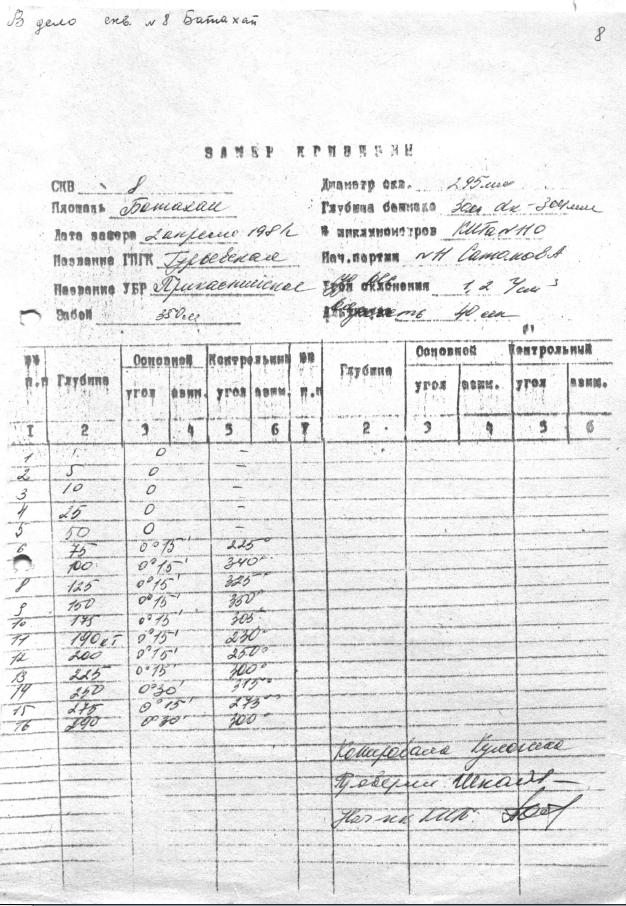Borderless: (6, 343, 626, 880)
